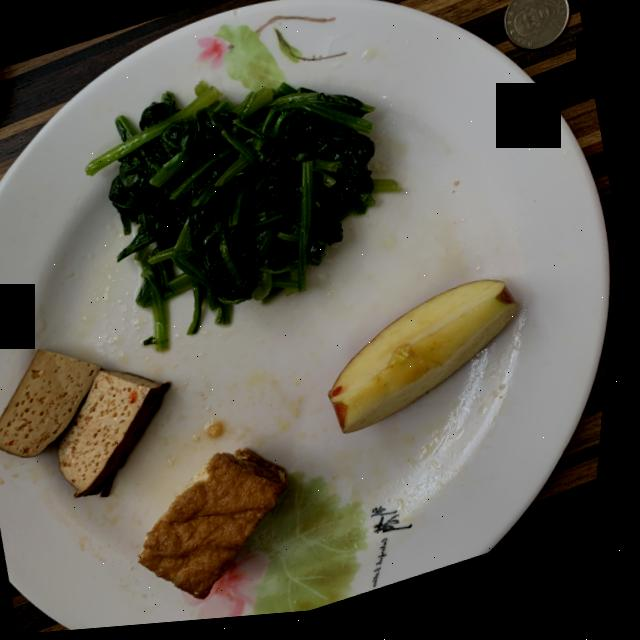apple -sliced-: (336, 288, 524, 439)
coin: (505, 0, 571, 59)
egg tofu: (149, 452, 296, 603)
firm tofu: (0, 350, 177, 499)
mustard greens: (89, 88, 403, 353)
